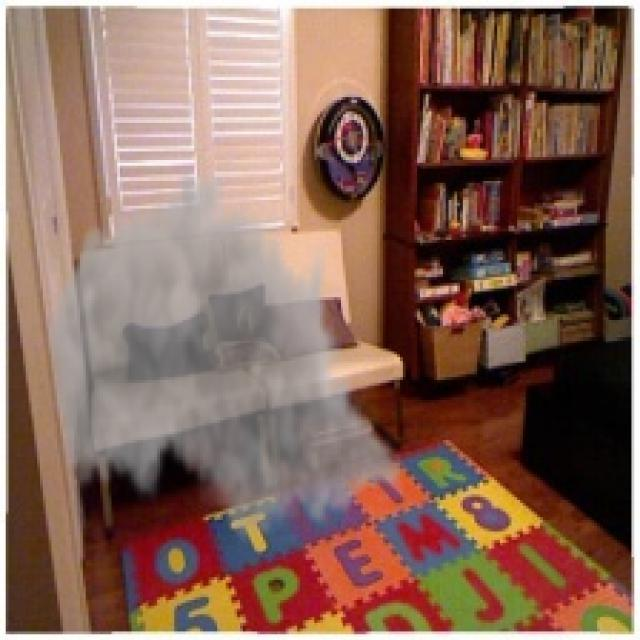Smoke: (42, 157, 408, 552)
